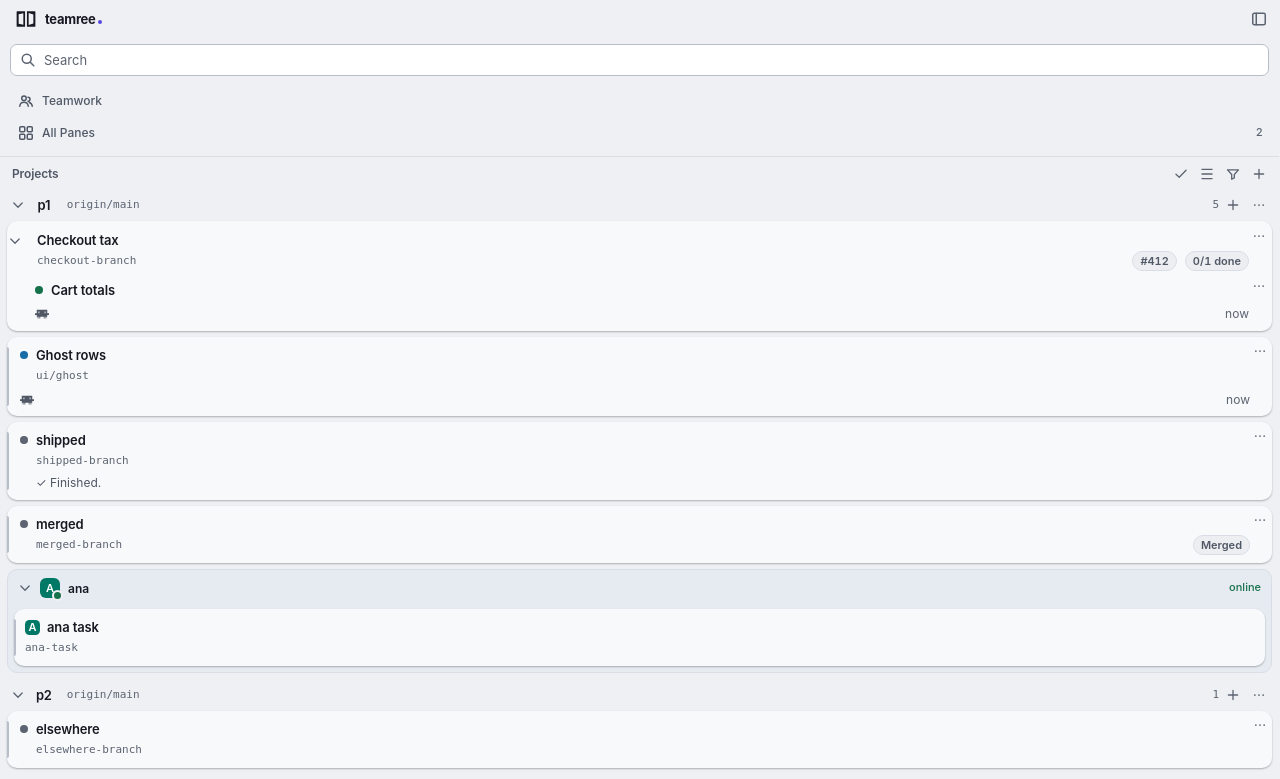
Test: the filter field › takes no room until Filter is pressed
Click the button named "Filter". click: coordinates (1233, 174)
box: 1221,162 -> 1245,186
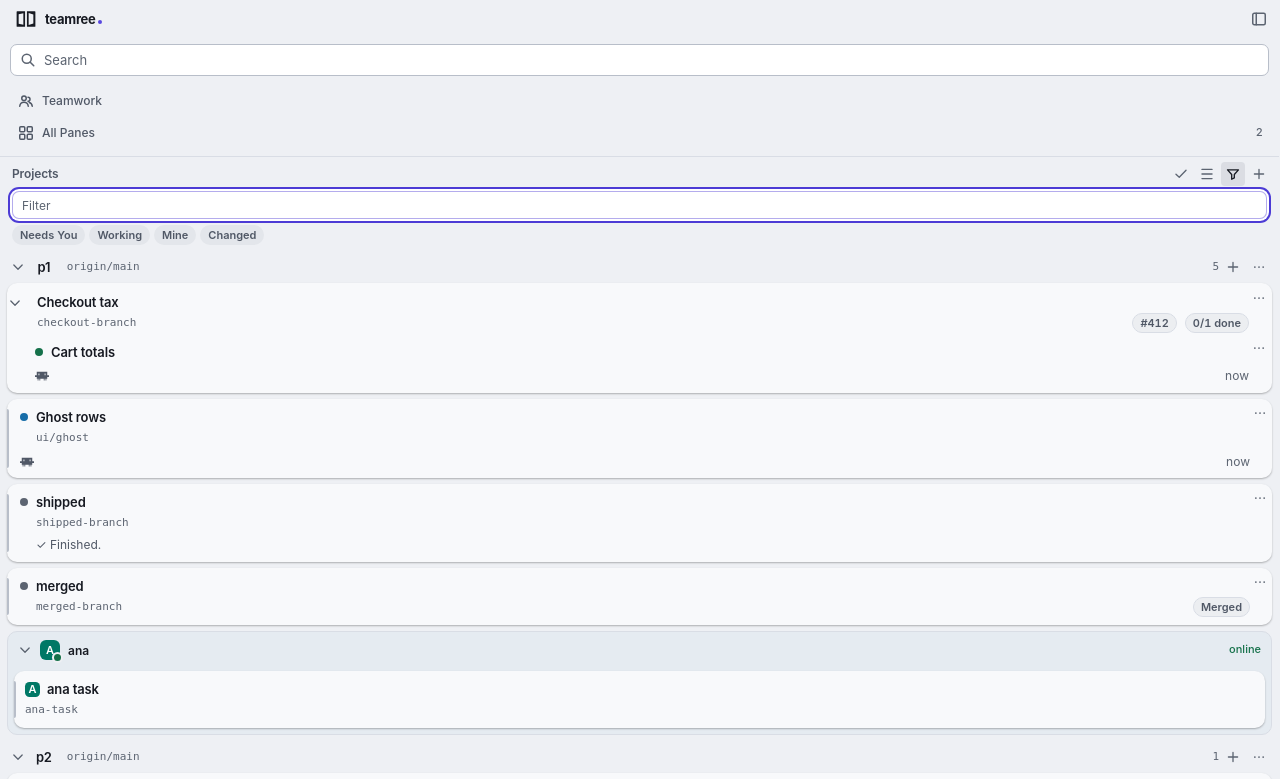
Result: the element named "Quick filters" is shown at 12,225 -> 264,245
Result: the button named "Filter" is expanded at 1221,162 -> 1245,186
